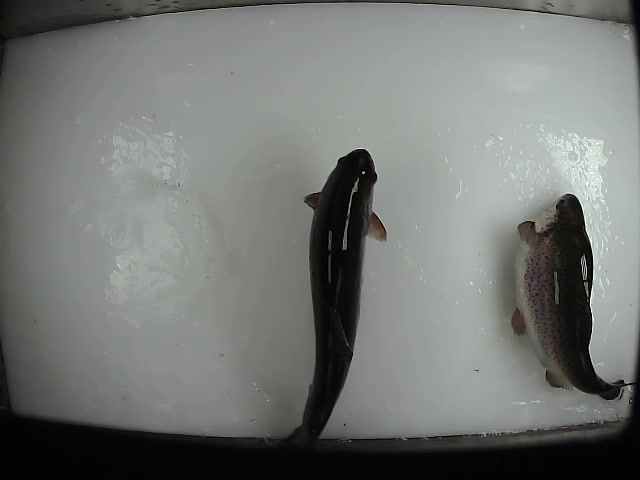fish: (274, 147, 390, 468), (508, 191, 628, 405)
